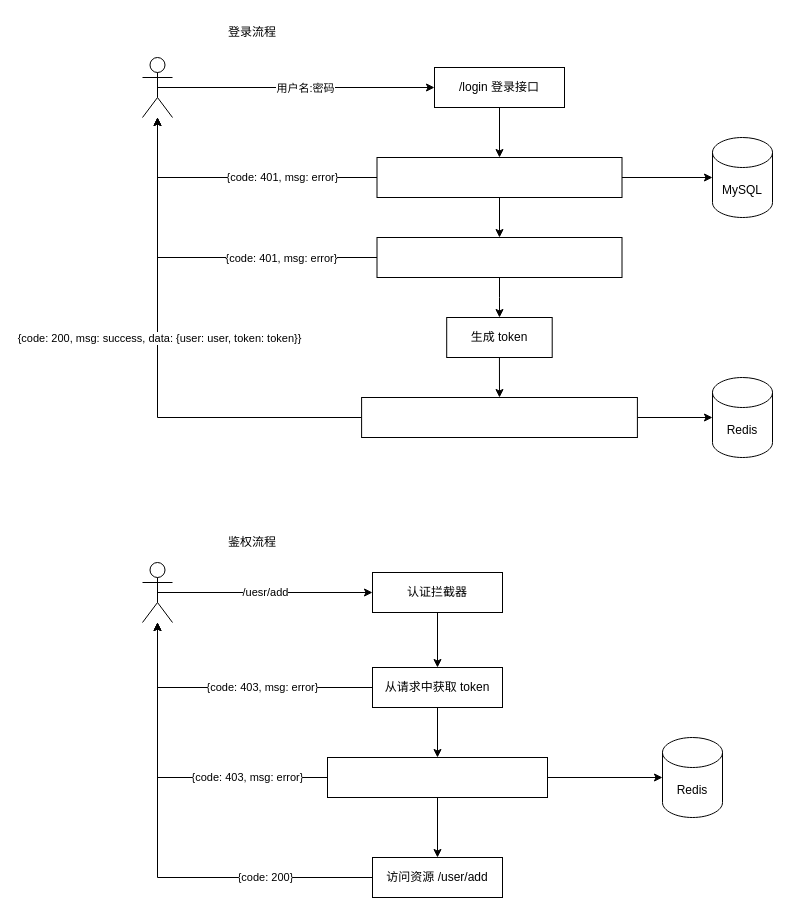
This 790x915 diagram has some shape labels left out. Each missing label, with the box of its shape:
以 token 为 key，用户为 value，存入 redis: (361, 396, 637, 438)
基于用户名从数据库查询用户对象: (376, 156, 622, 198)
根据 token 从 redis 获取用户信息: (326, 756, 548, 798)
比较密码是否匹配: (376, 236, 622, 278)
